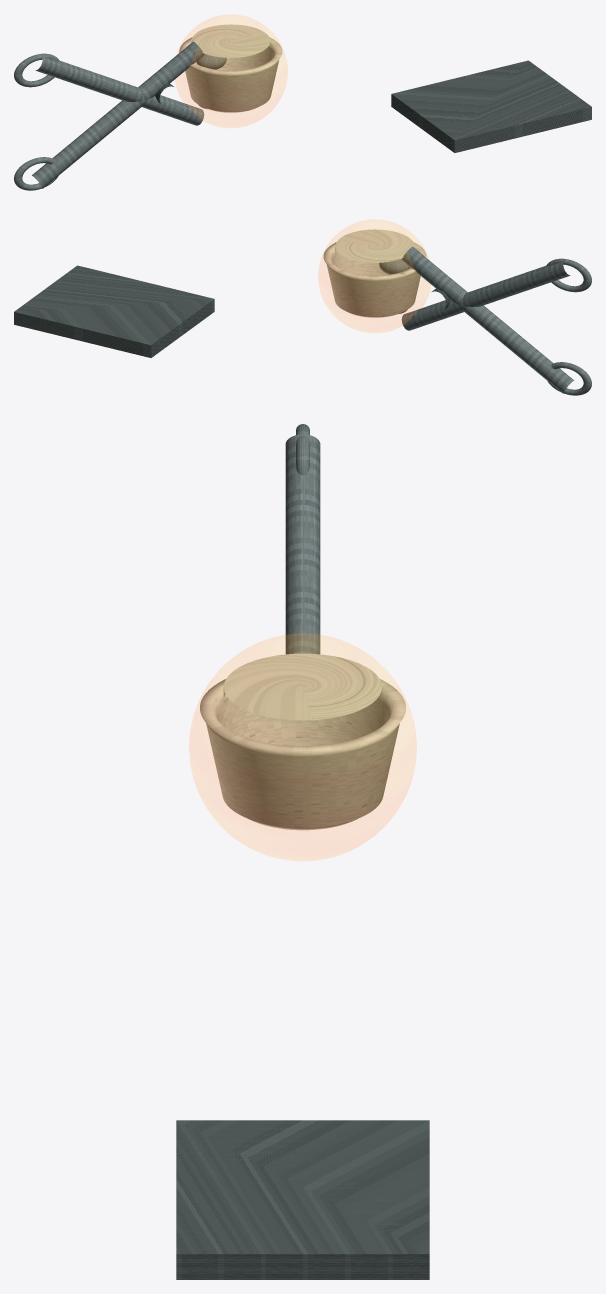
The model's file is alat-23.glb.
3 renders of one model, top to bottom at view 1: azimuth 30°, elevation 25°; view 2: azimuth 150°, elevation 25°; view 3: azimuth 270°, elevation 25°, orthographic. The views are drawn at different scales.
Parts seen in each view (by area): view 1: box-0, hotGlow-10, toolPart-8, toolPart-2, toolPart-1, toolPart-9, toolPart-4, toolPart-5, toolPart-6; view 2: box-0, hotGlow-10, toolPart-8, toolPart-2, toolPart-1, toolPart-9, toolPart-4, toolPart-5, toolPart-6; view 3: box-0, hotGlow-10, toolPart-8, toolPart-9, toolPart-1.
Boxes of the visible parts, x1,y1,x2,y2 form: box-0: [391, 60, 591, 152]; hotGlow-10: [175, 15, 287, 127]; toolPart-8: [179, 37, 282, 112]; toolPart-2: [32, 41, 204, 188]; toolPart-1: [35, 55, 204, 125]; toolPart-9: [191, 24, 270, 57]; toolPart-4: [14, 53, 59, 87]; toolPart-5: [14, 157, 58, 190]; toolPart-6: [196, 53, 226, 69]; box-0: [14, 265, 214, 357]; hotGlow-10: [318, 220, 430, 332]; toolPart-8: [323, 242, 426, 317]; toolPart-2: [401, 246, 573, 393]; toolPart-1: [401, 260, 570, 330]; toolPart-9: [335, 229, 414, 262]; toolPart-4: [546, 258, 591, 292]; toolPart-5: [547, 362, 591, 395]; toolPart-6: [379, 258, 409, 274]; box-0: [176, 1120, 429, 1279]; hotGlow-10: [189, 634, 416, 860]; toolPart-8: [200, 679, 405, 830]; toolPart-9: [223, 653, 382, 720]; toolPart-1: [285, 434, 320, 654].
Size of the model in its own units: 7.96 by 2.36 by 1.6.
Materials: 11 (11 with a texture image).
